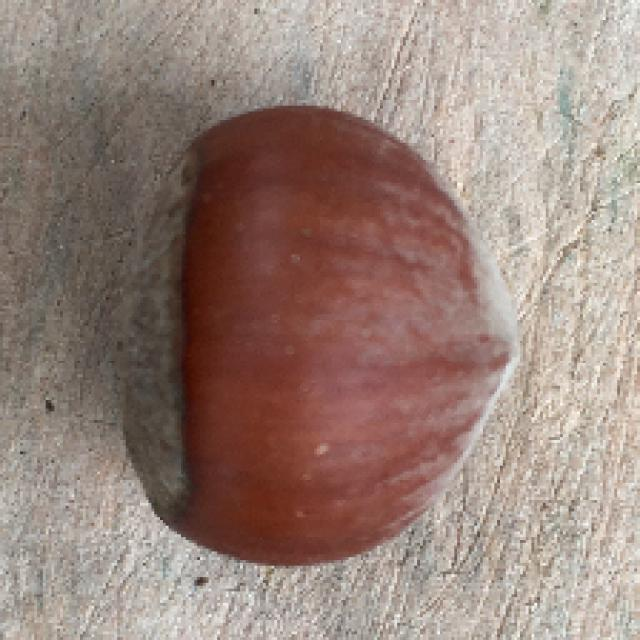qualityHazelnut: (119, 98, 527, 574)
